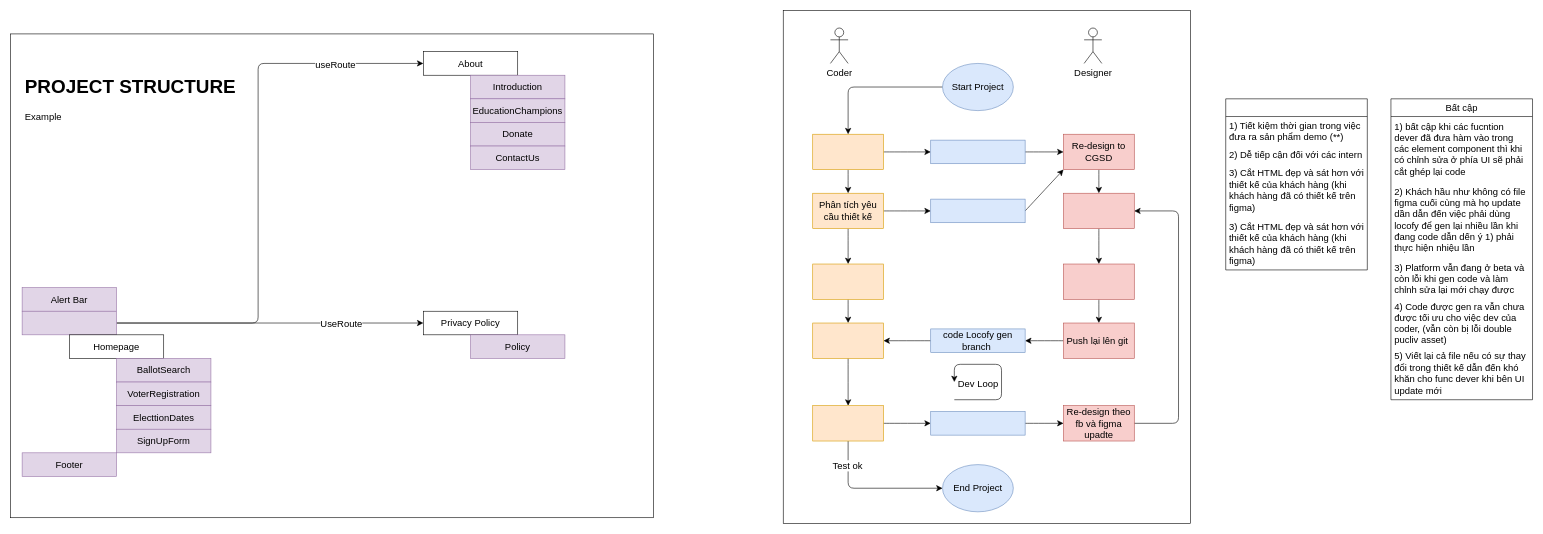
Some shapes in this 1543 by 534 pixel diagram are drawn without their labels. The shapes that lost their labels are listed below. From the top down, each one's box as (x1, y1, x2, y2) in pixels, then its label:
(812, 134, 884, 170): Nhân thiết kế
(930, 140, 1025, 164): Figma design
(1225, 98, 1367, 270): Lợi lích
(930, 199, 1025, 223): Yêu cầu thiết kế theo kiệu tự động sắp xếp
(1063, 193, 1134, 229): Locofy design
(812, 263, 884, 299): Style basic component (button,input,...)
(1063, 263, 1134, 299): Gen code và đẩy lên branch mới và chữa lỗi
(22, 311, 117, 335): Header
(812, 322, 884, 358): Gép code với với git của PM
(812, 405, 884, 441): Duyệt code với PM
(930, 411, 1025, 435): bản feedback và figma update
